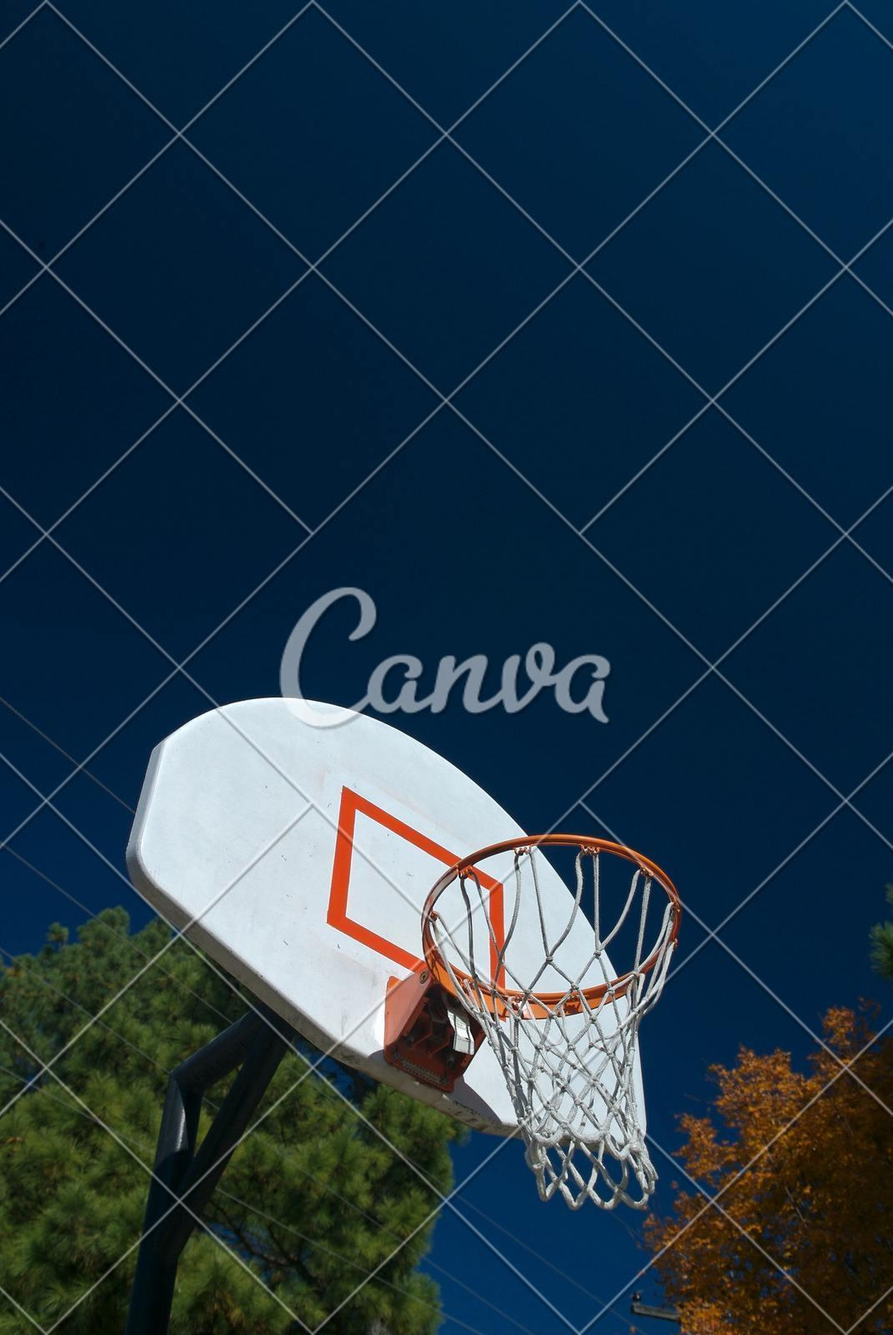rim: (428, 834, 688, 1210)
